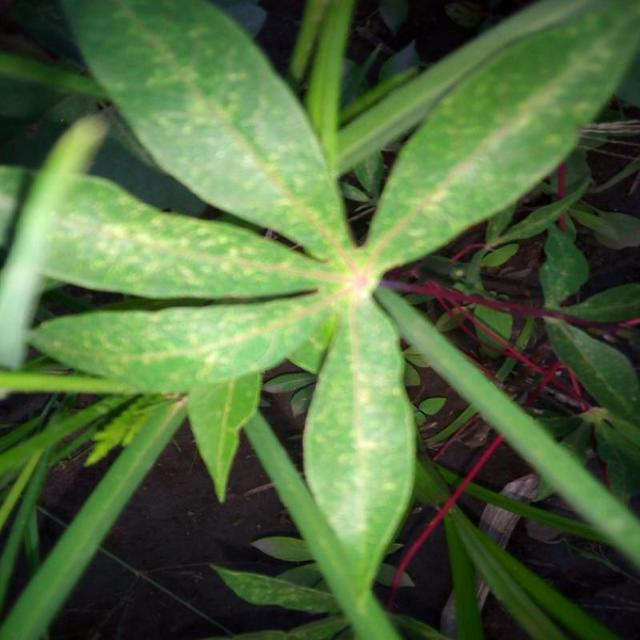cassava leaf: (3, 0, 638, 636), (60, 0, 353, 262), (363, 0, 638, 273)
